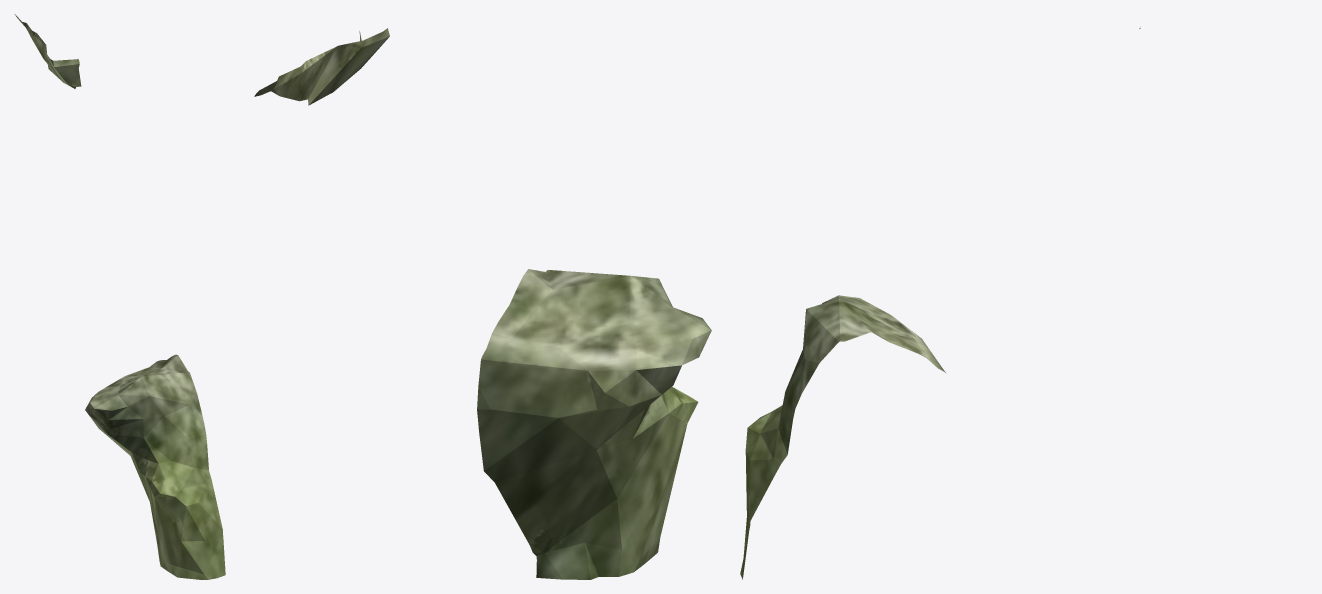
The picture shows the model from 3 angles, left to right: view 1: azimuth 30°, elevation 25°; view 2: azimuth 150°, elevation 25°; view 3: azimuth 270°, elevation 25°; orthographic projection. The views are drawn at different scales.
Bounding box in the file's own units: 0.7254 × 2.95 × 2.75.
Materials: 1 (1 with a texture image).
